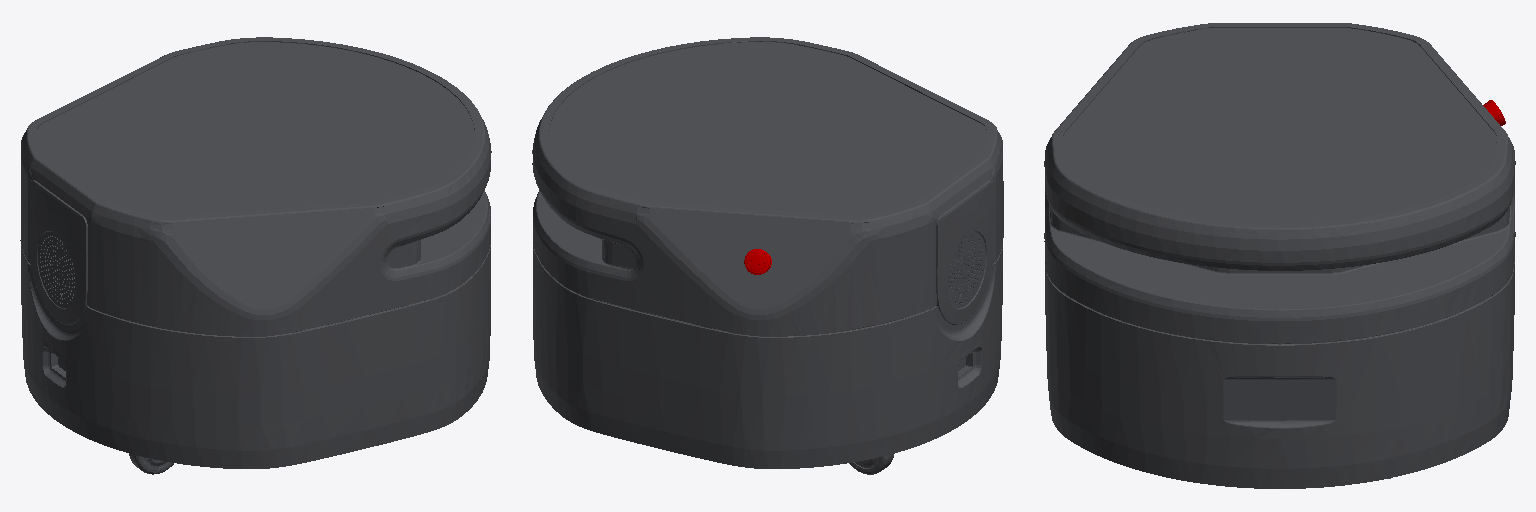
The robot description file, URDF, robot "freight":
<robot name="freight">
  <mujoco>
    <compiler balanceinertia="true" discardvisual="false" fusestatic="true" meshdir="../meshes" strippath="true"/>
  </mujoco>
  <link name="base_link">
    <inertial>
      <origin rpy="0 0 0" xyz="-0.0036 0.0 0.0014" />
      <mass value="70.1294" />
      <inertia ixx="1.225" ixy="0.0099" ixz="0.0062" iyy="1.2853" iyz="-0.0034" izz="0.987" />
    </inertial>
    <visual>
      <origin rpy="0 0 0" xyz="0 0 0" />
      <geometry>
        <mesh filename="base_link.STL" />
      </geometry>
      <material name="">
        <color rgba="0.356 0.361 0.376 1" />
      </material>
    </visual>
    <collision>
      <origin rpy="0 0 0" xyz="0 0 0" />
      <geometry>
        <mesh filename="base_link_collision.STL" />
      </geometry>
    </collision>
  </link>
  <link name="r_wheel_link">
    <inertial>
      <origin rpy="0 0 0" xyz="0 0 0" />
      <mass value="4.3542" />
      <inertia ixx="0.0045" ixy="0" ixz="0" iyy="0.005" iyz="0" izz="0.0045" />
    </inertial>
    <visual>
      <origin rpy="0 0 0" xyz="0 0 0" />
      <geometry>
        <mesh filename="r_wheel_link.STL" />
      </geometry>
      <material name="">
        <color rgba="0.086 0.506 0.767 1" />
      </material>
    </visual>
    <collision>
      <origin rpy="0 0 0" xyz="0 0 0" />
      <geometry>
        <mesh filename="r_wheel_link_collision.STL" />
      </geometry>
    </collision>
  </link>
  <joint name="r_wheel_joint" type="continuous">
    <origin rpy="-6.123E-17 0 0" xyz="0.0012914 -0.18738 0.055325" />
    <parent link="base_link" />
    <child link="r_wheel_link" />
    <axis xyz="0 1 0" />
  <limit effort="8.85" velocity="34.8" /></joint>
  <link name="l_wheel_link">
    <inertial>
      <origin rpy="0 0 0" xyz="0 0 0" />
      <mass value="4.3542" />
      <inertia ixx="0.0045" ixy="0" ixz="0" iyy="0.005" iyz="0" izz="0.0045" />
    </inertial>
    <visual>
      <origin rpy="0 0 0" xyz="0 0 0" />
      <geometry>
        <mesh filename="l_wheel_link.STL" />
      </geometry>
      <material name="">
        <color rgba="0.086 0.506 0.767 1" />
      </material>
    </visual>
    <collision>
      <origin rpy="0 0 0" xyz="0 0 0" />
      <geometry>
        <mesh filename="l_wheel_link_collision.STL" />
      </geometry>
    </collision>
  </link>
  <joint name="l_wheel_joint" type="continuous">
    <origin rpy="-6.123E-17 0 0" xyz="0.0012914 0.18738 0.055325" />
    <parent link="base_link" />
    <child link="l_wheel_link" />
    <axis xyz="0 1 0" />
  <limit effort="8.85" velocity="34.8" /></joint>
  <link name="estop_link">
    <inertial>
      <origin rpy="0 0 0" xyz="0.002434512737072 -0.00330608315239905 0.00665139196650039" />
      <mass value="0.00196130439134723" />
      <inertia ixx="3.02810026604417E-07" ixy="-1.5862023118056E-08" ixz="3.16561396557437E-08" iyy="2.93322917127605E-07" iyz="-4.28833522751273E-08" izz="2.28513272627183E-07" />
    </inertial>
    <visual>
      <origin rpy="0 0 0" xyz="0 0 0" />
      <geometry>
        <mesh filename="estop_link.STL" />
      </geometry>
      <material name="">
        <color rgba="0.8 0 0 1" />
      </material>
    </visual>
    <collision>
      <origin rpy="0 0 0" xyz="0 0 0" />
      <geometry>
        <mesh filename="estop_link_collision.STL" />
      </geometry>
    </collision>
  </link>
  <joint name="estop_joint" type="fixed">
    <origin rpy="1.5708 0 0" xyz="-0.12465 0.23892 0.31127" />
    <parent link="base_link" />
    <child link="estop_link" />
    <axis xyz="0 0 0" />
  </joint>
  <link name="laser_link">
    <inertial>
      <origin rpy="0 0 0" xyz="-0.0306228970175641 0.0007091682908278 0.0551974119471302" />
      <mass value="0.00833634573995571" />
      <inertia ixx="1.01866461240801E-06" ixy="-5.88447626567756E-08" ixz="7.83857244757914E-08" iyy="5.10039589974707E-07" iyz="-7.12664289617235E-09" izz="1.28270671527309E-06" />
    </inertial>
    <visual>
      <origin rpy="0 0 0" xyz="0 0 0" />
      <geometry>
        <mesh filename="laser_link.STL" />
      </geometry>
      <material name="">
        <color rgba="0.792156862745098 0.819607843137255 0.933333333333333 1" />
      </material>
    </visual>
    <collision>
      <origin rpy="0 0 0" xyz="0 0 0" />
      <geometry>
        <mesh filename="laser_link_collision.STL" />
      </geometry>
    </collision>
  </link>
  <joint name="laser_joint" type="fixed">
    <origin rpy="3.14159265359 0 0" xyz="0.235 0 0.2878" />
    <parent link="base_link" />
    <child link="laser_link" />
    <axis xyz="0 0 0" />
  </joint>
  <link name="base_camera_link" />
  <joint name="base_camera_joint" type="fixed">
    <origin rpy="0 -0.17453292519943 0" xyz="0.2645 0 0.198" />
    <parent link="base_link" />
    <child link="base_camera_link" />
  </joint>
  <link name="base_camera_optical_frame" />
  <joint name="base_camera_optical_joint" type="fixed">
    <origin rpy="1.5707963267966 0 1.5707963267966" xyz="0 0 0" />
    <parent link="base_camera_link" />
    <child link="base_camera_optical_frame" />
  </joint>
</robot>

--- Facts derived from the render (not from the file) ---
Views: 3 orthographic renders of the robot side by side, from view 1: azimuth 30°, elevation 25°; view 2: azimuth 150°, elevation 25°; view 3: azimuth 270°, elevation 25°.
Robot: freight — 7 links, 6 joints (2 continuous, 4 fixed); root link base_link; default pose: every joint at zero.
Visible links, largest first — view 1: base_link; view 2: base_link, estop_link; view 3: base_link.
Boxes of the visible links, x1,y1,x2,y2 form: base_link: (20, 37, 491, 474); base_link: (532, 37, 1003, 474); estop_link: (744, 249, 771, 274); base_link: (1044, 23, 1515, 488).
Bounding box of the posed robot: 0.5733 × 0.5283 × 0.3589 m (x, y, z).
Meshes: 5 distinct files referenced, 2 mesh visuals loaded (2 binary STL); not drawn: 3 (reference not matched to a file when rendering).